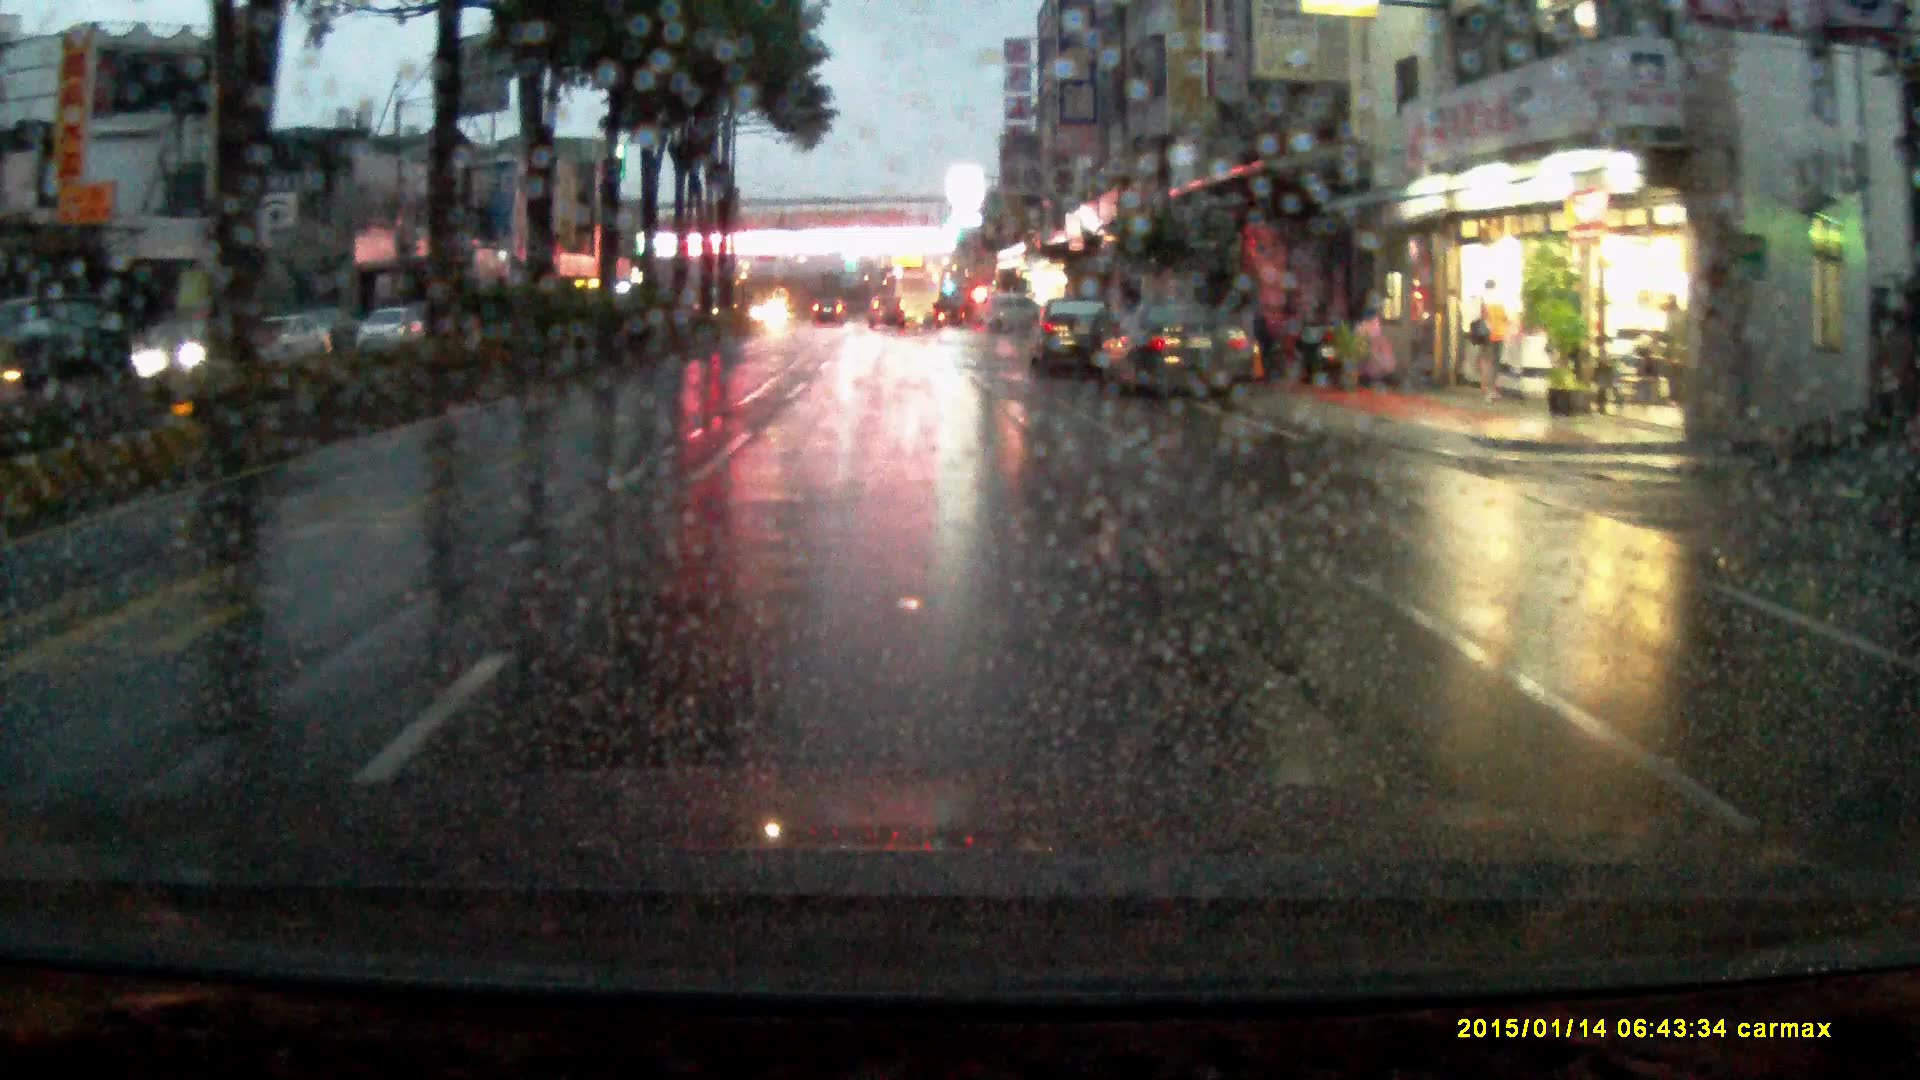vehicle: (1091, 306, 1258, 405), (1029, 302, 1118, 385), (229, 319, 332, 372), (973, 297, 1044, 340), (884, 280, 940, 334), (357, 311, 421, 353), (866, 302, 907, 335), (810, 301, 851, 330)
